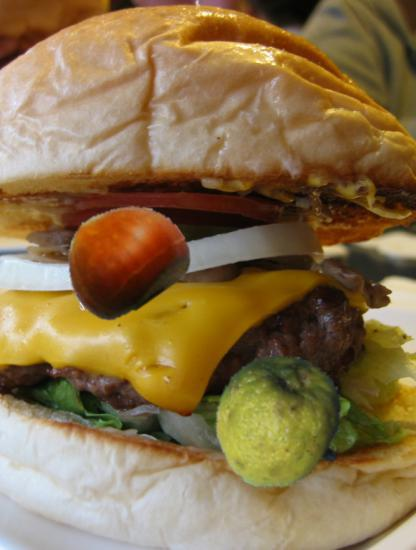Limes: (212, 355, 349, 492)
Nut: (61, 195, 185, 319)
